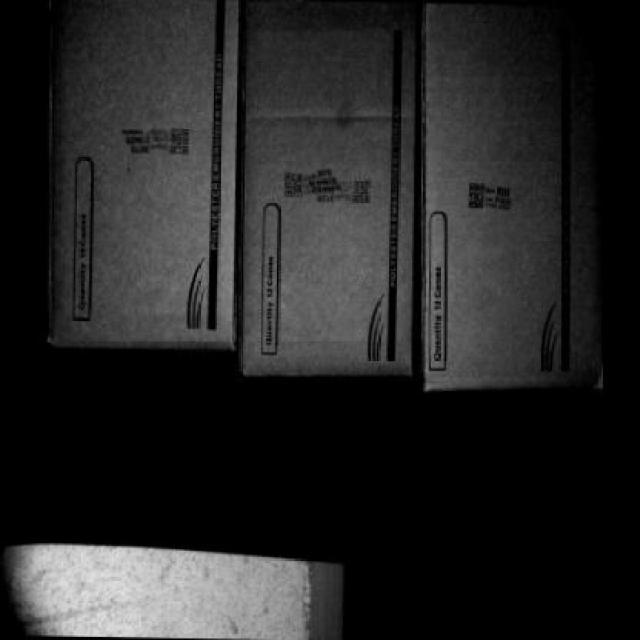box: (423, 9, 606, 389), (46, 0, 242, 346), (245, 4, 422, 370)
